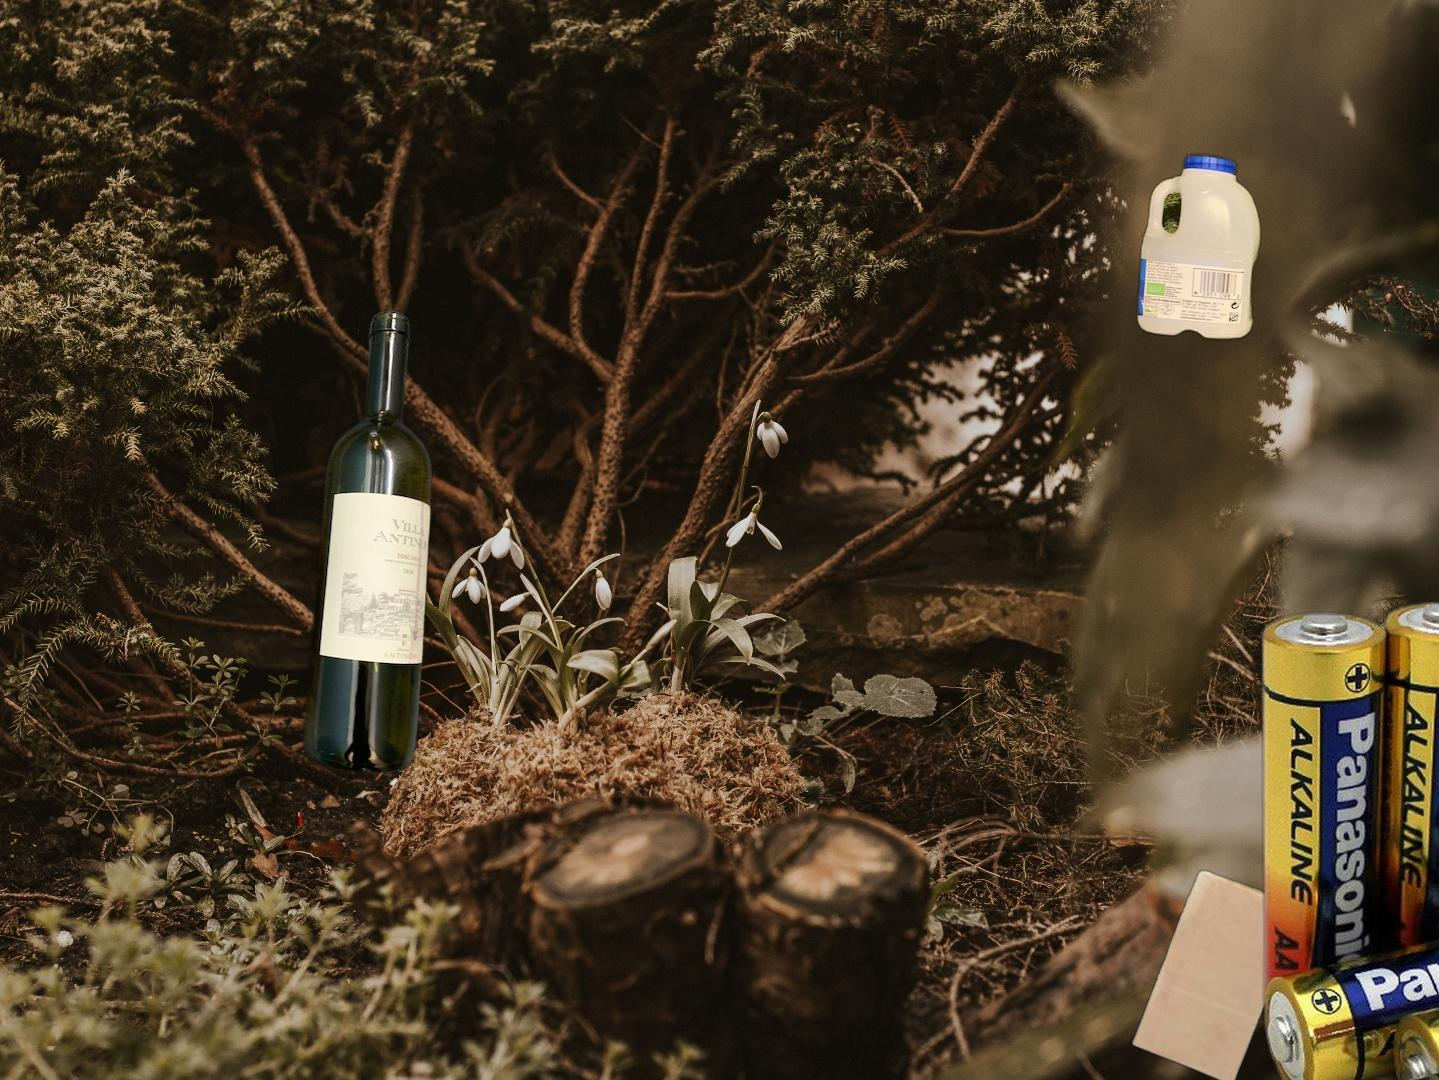battery: (1254, 596, 1439, 1080)
glass: (297, 305, 437, 778)
paper-bag: (1129, 867, 1307, 1080)
plastic-bottles: (1133, 147, 1266, 345)
